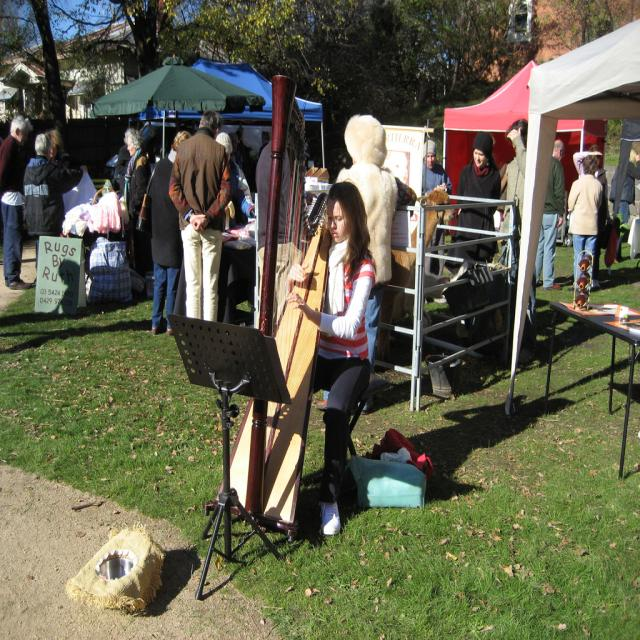harp: (210, 72, 333, 538)
